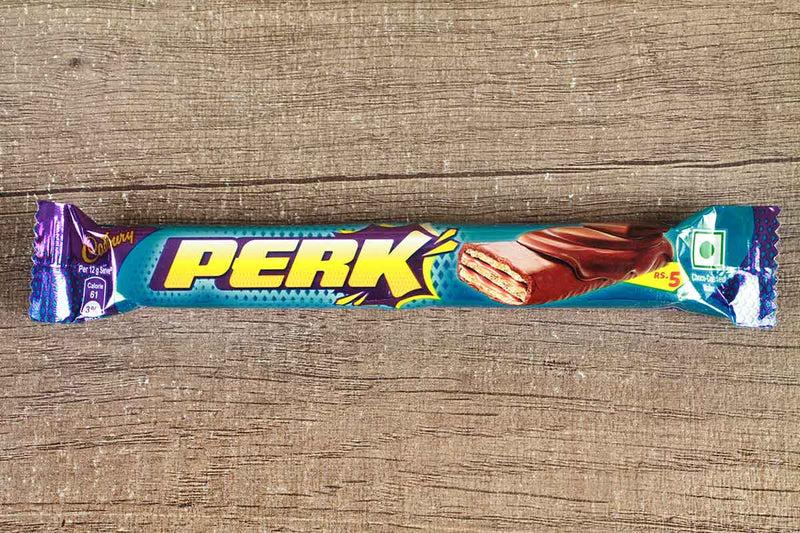Perk: (27, 201, 783, 331)
